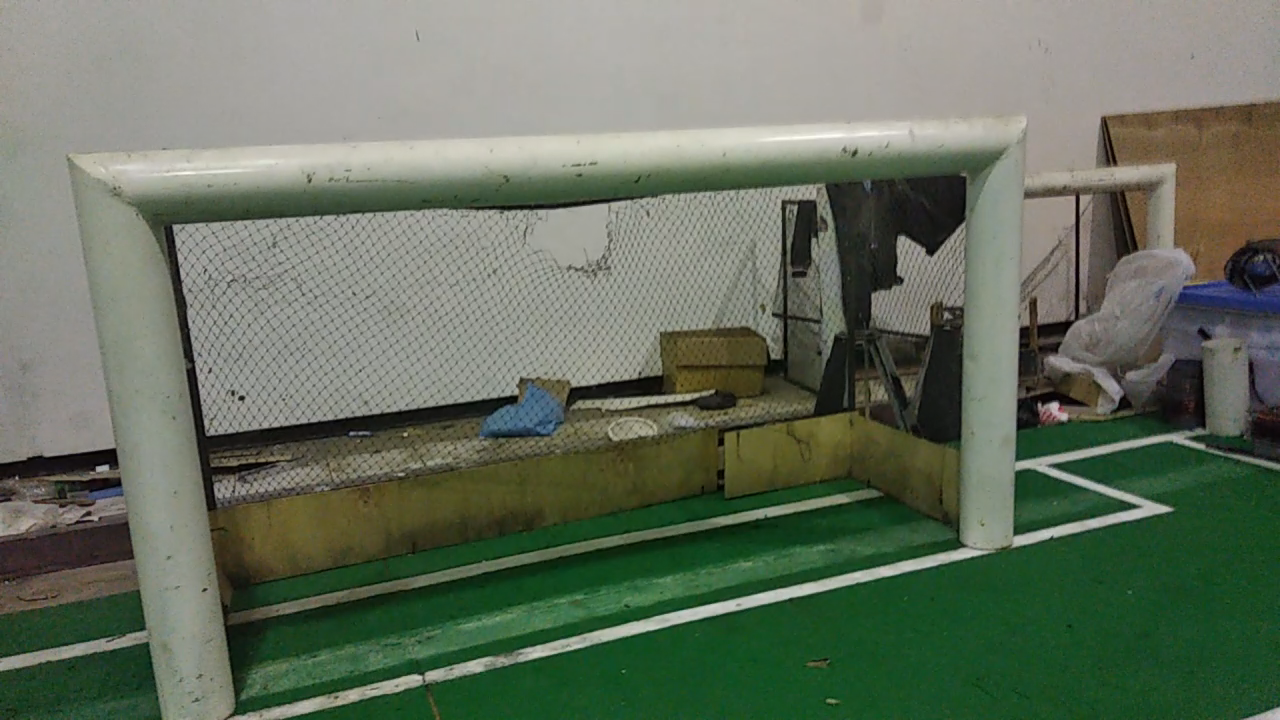gawang: (52, 110, 1038, 713)
